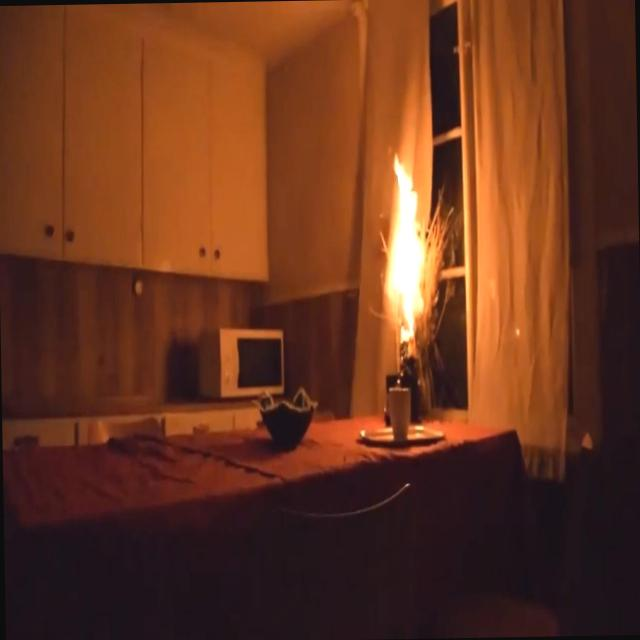fire: (351, 132, 452, 398)
